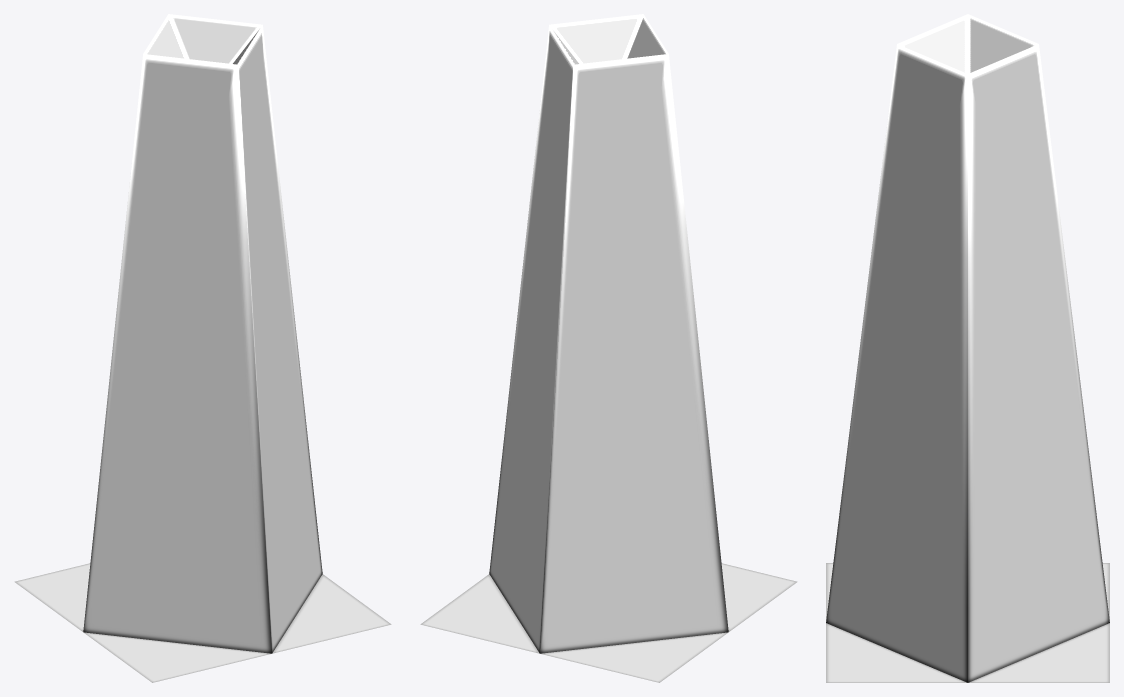
The model's file is obelisk_3-high_inverted.fbx.
The picture shows the model from 3 angles, left to right: view 1: azimuth 30°, elevation 25°; view 2: azimuth 150°, elevation 25°; view 3: azimuth 270°, elevation 25°; orthographic projection. The views are drawn at different scales.
Parts seen in each view (by area): view 1: obelisk_3-high_inverted; view 2: obelisk_3-high_inverted; view 3: obelisk_3-high_inverted.
Boxes of the visible parts, x1,y1,x2,y2 form: obelisk_3-high_inverted: [14, 14, 391, 682]; obelisk_3-high_inverted: [420, 14, 797, 682]; obelisk_3-high_inverted: [826, 14, 1109, 682].
Bounding box in the file's own units: 100 × 225 × 100.
